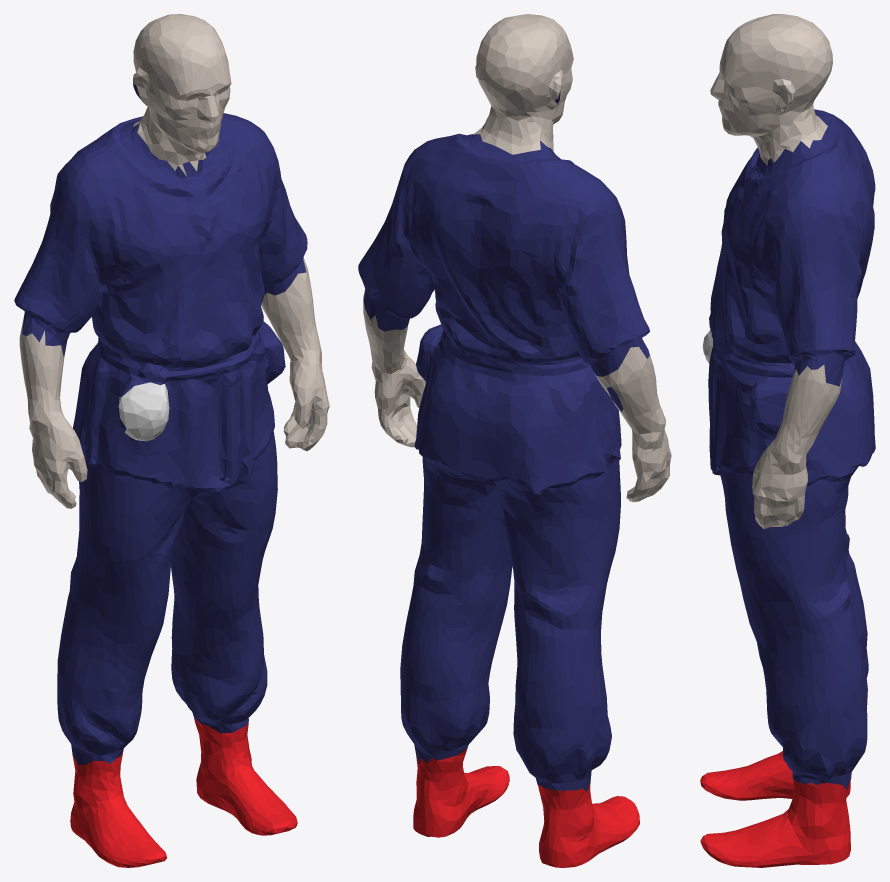
The model's file is peasant (1).fbx.
3 renders of one model, left to right at view 1: azimuth 30°, elevation 25°; view 2: azimuth 150°, elevation 25°; view 3: azimuth 270°, elevation 25°, orthographic.
Visible parts, largest first — view 1: tmpiqk9ddso.ply; view 2: tmpiqk9ddso.ply; view 3: tmpiqk9ddso.ply.
Part boxes in pixels (x1=…): tmpiqk9ddso.ply: x1=14, y1=14, x2=329, y2=867; tmpiqk9ddso.ply: x1=358, y1=14, x2=671, y2=867; tmpiqk9ddso.ply: x1=700, y1=14, x2=875, y2=867.
Size of the model in its own units: 73.89 by 196 by 38.75.
